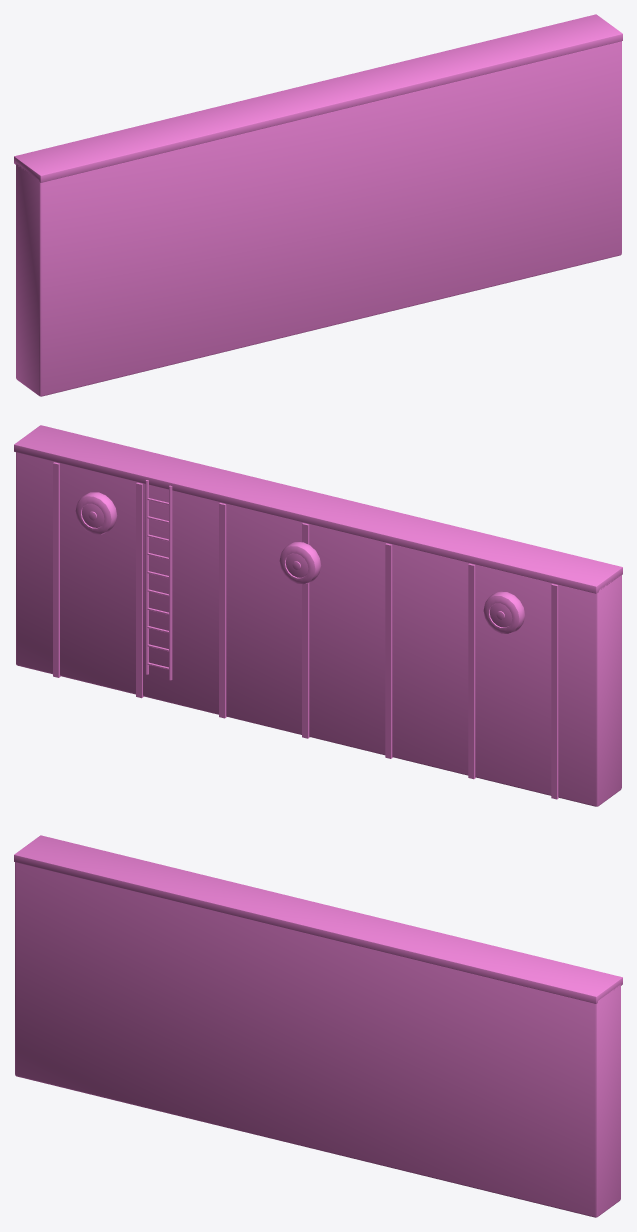
Rendered from Docks_QuayWall.fbx.
The picture shows the model from 3 angles, top to bottom: view 1: azimuth 30°, elevation 25°; view 2: azimuth 150°, elevation 25°; view 3: azimuth 330°, elevation 25°; orthographic projection.
Visible parts, largest first — view 1: QuayWall; view 2: QuayWall; view 3: QuayWall.
Part boxes in pixels (box(x1,y1,x2,y2)): QuayWall: box(14, 14, 622, 396); QuayWall: box(14, 425, 622, 806); QuayWall: box(14, 835, 622, 1217).
Size of the model in its own units: 40 by 14.6 by 4.22.
Materials: 1 (1 with a texture image).
